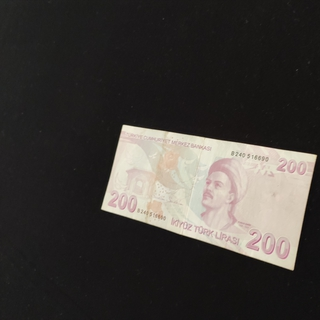200TLBack: (99, 123, 318, 272)
